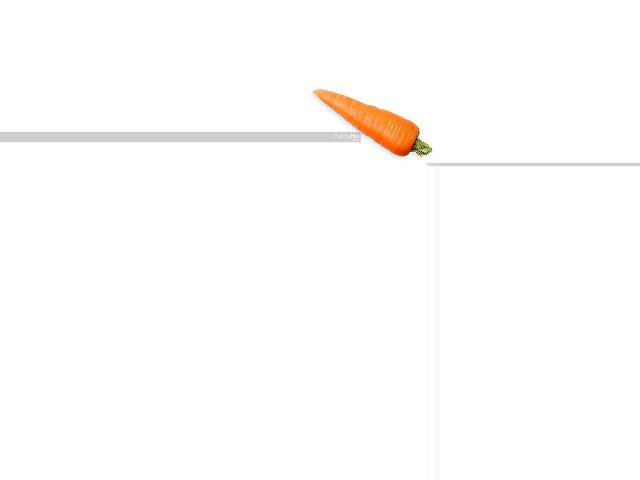carrot: (312, 86, 431, 158)
